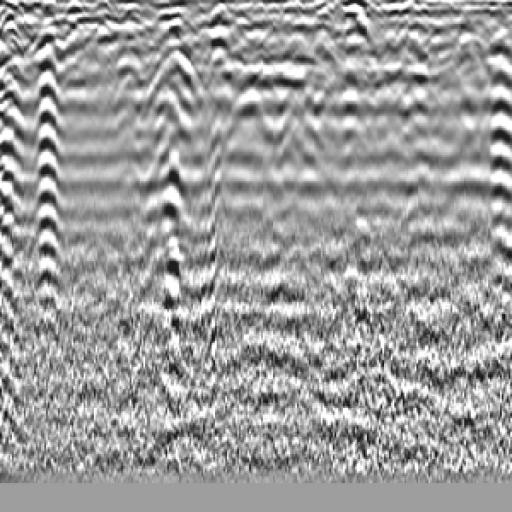metalic: (109, 25, 210, 284)
